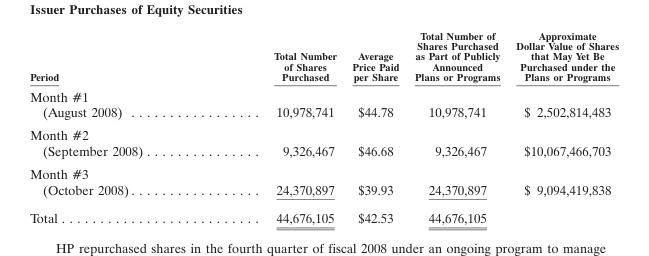table: (29, 28, 618, 225)
table column: (29, 28, 207, 225), (207, 28, 343, 225), (507, 28, 618, 225), (406, 28, 507, 225), (343, 28, 406, 225)
table column header: (29, 28, 618, 85)
table row: (29, 28, 618, 85), (29, 161, 618, 203), (29, 85, 618, 123), (29, 123, 618, 161), (29, 203, 618, 225)
